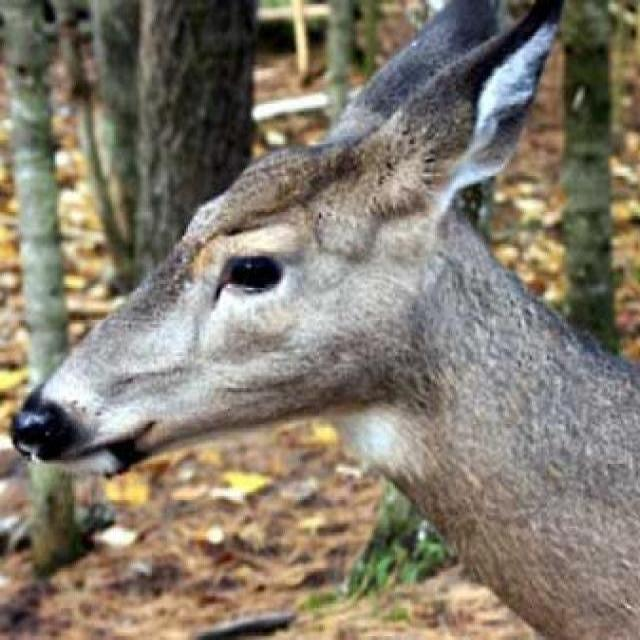deer: (4, 7, 596, 636)
